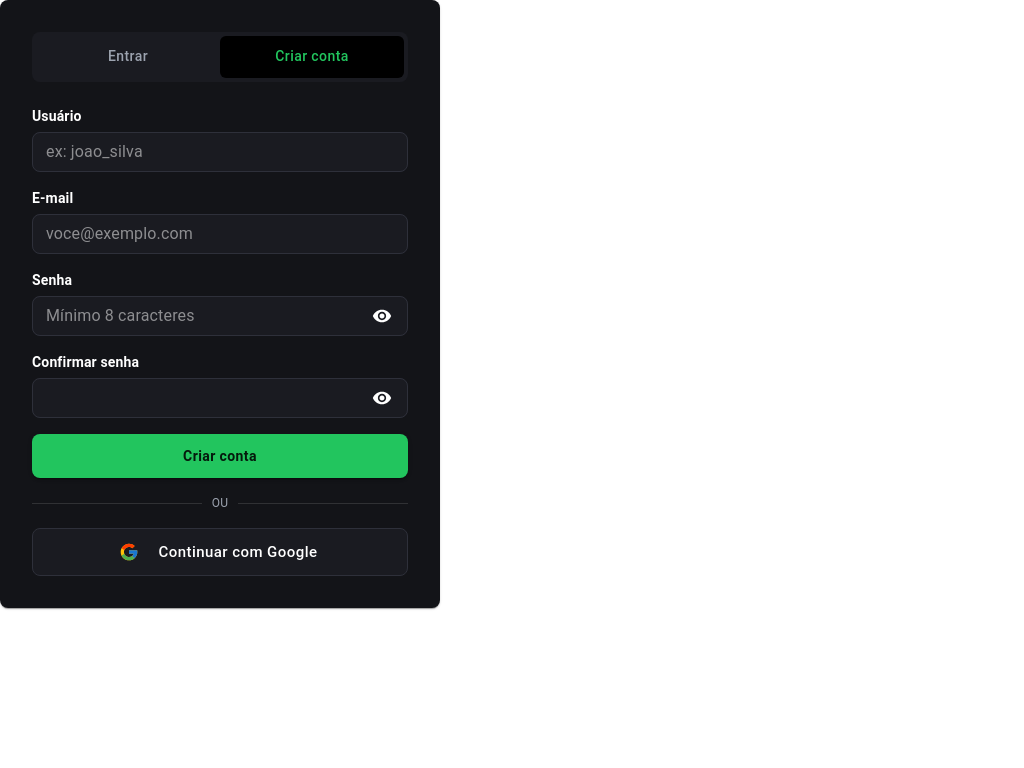
Scenario: shows success modal after successful signup
Type "joao_silva" into the field with placeholder "ex: joao_silva" at (220, 152), box [32,132,408,172]
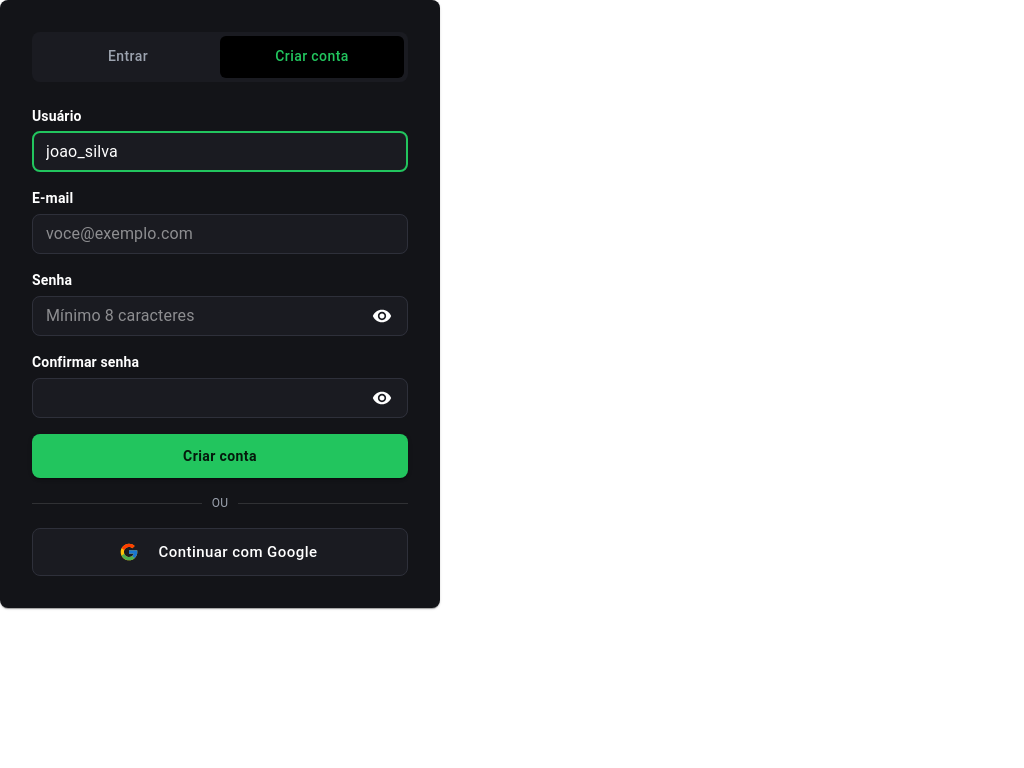
Type "joao@test.com" into the field with placeholder "voce@exemplo.com" at (220, 234), box [32,214,408,254]
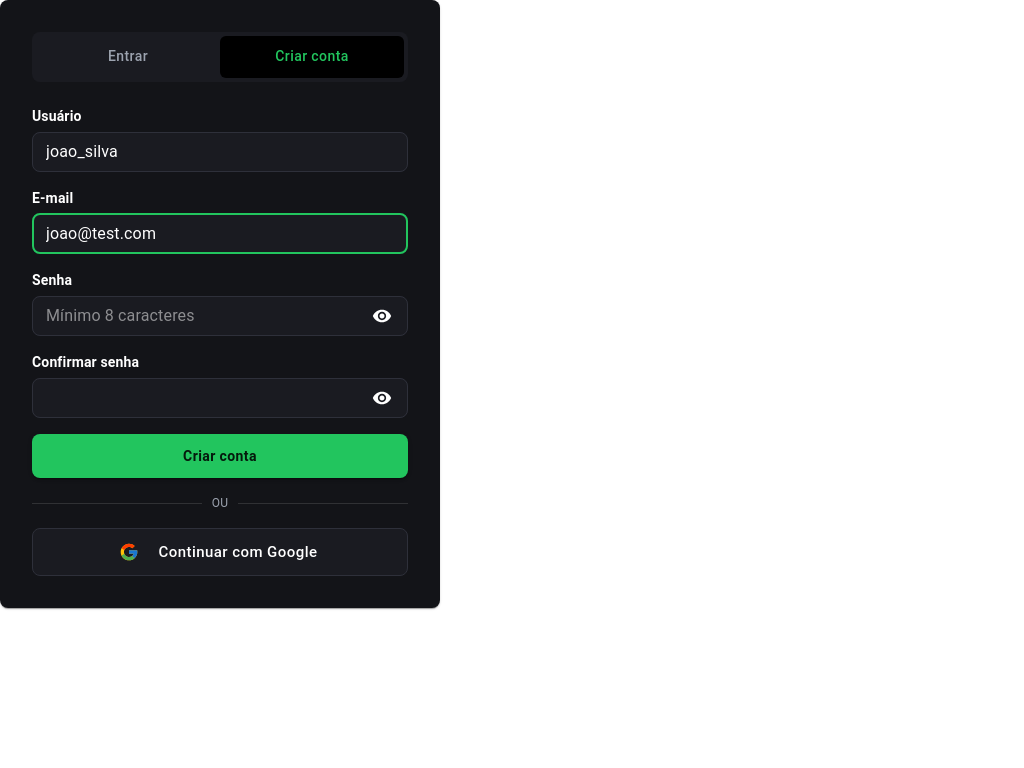
Type "Senha@123" into the password field with placeholder "Mínimo 8 caracteres" at (196, 316), box [32,296,359,336]
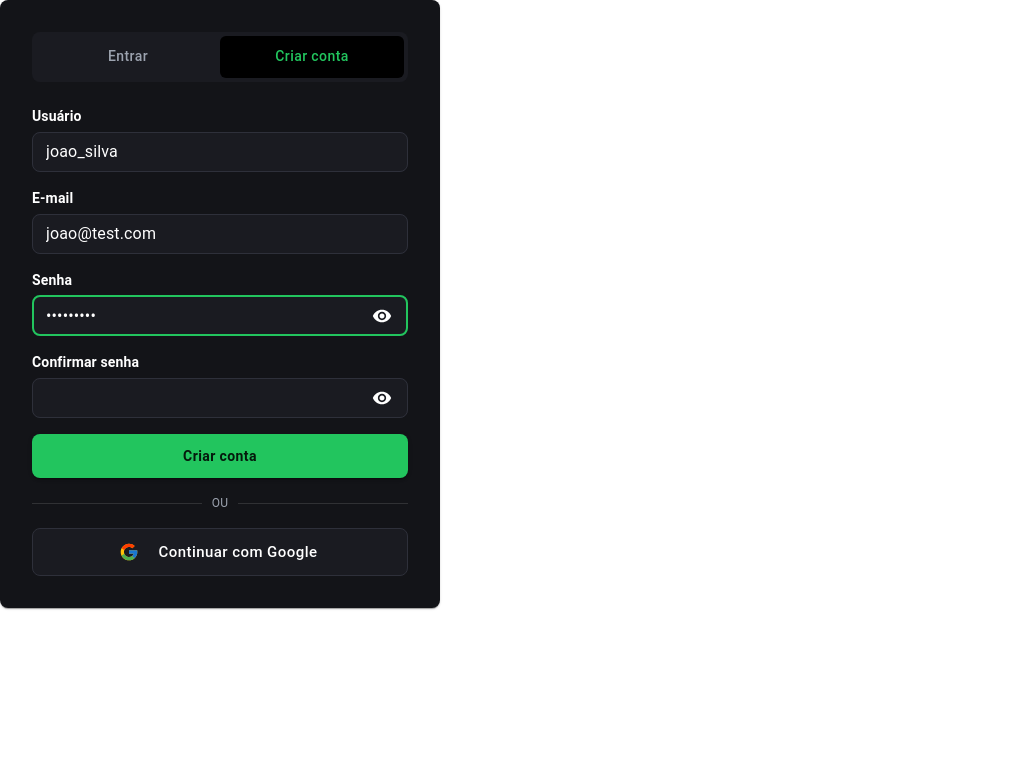
Type "Senha@123" into the password field named "confirmPassword" below "Confirmar senha" at (196, 398), box [32,378,359,418]
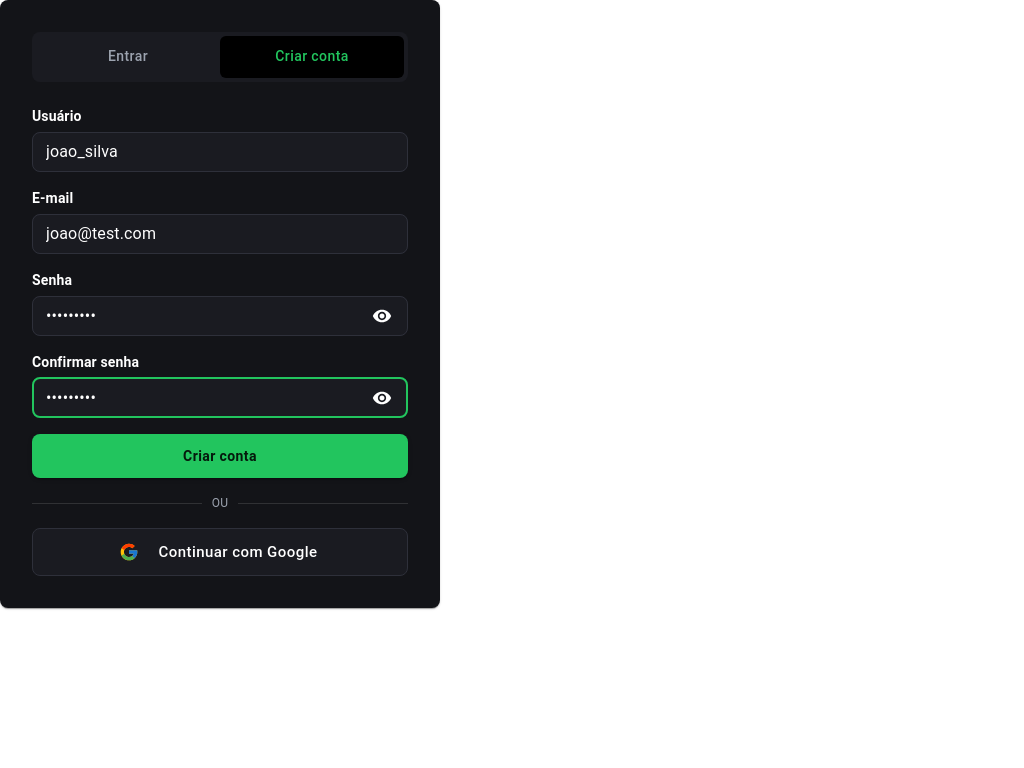
Click the button "Criar conta" at (220, 456), box [32,434,408,478]
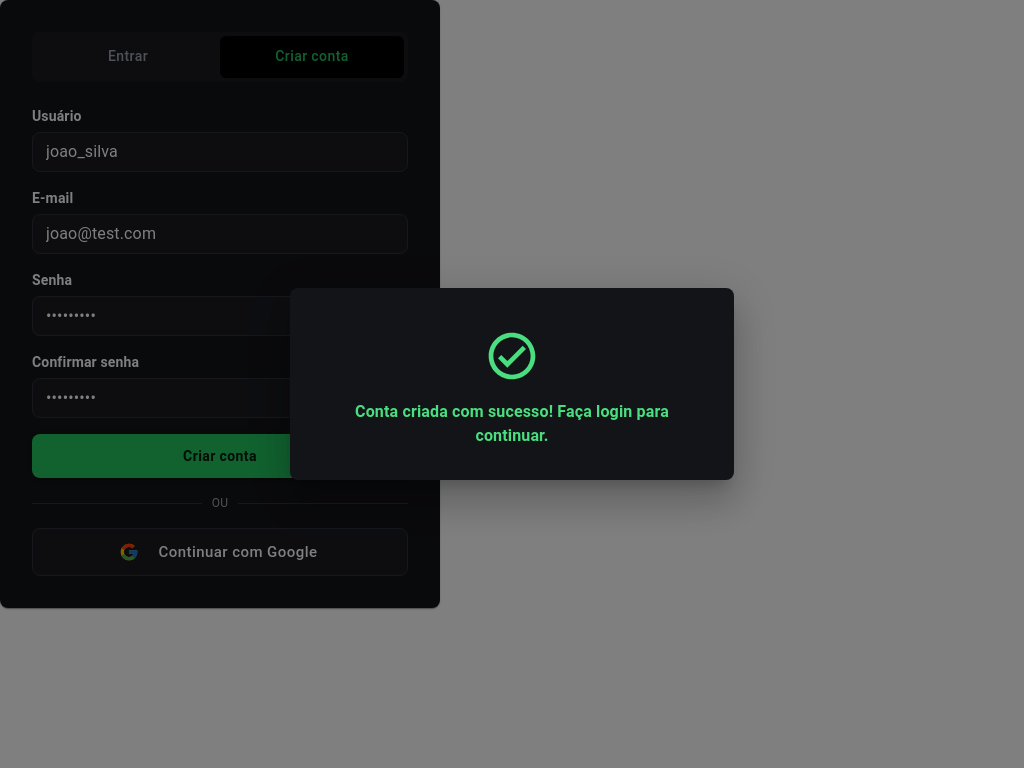
Expected: the text "Conta criada com sucesso! Faça login para continuar." is shown, [355,402,669,445]
